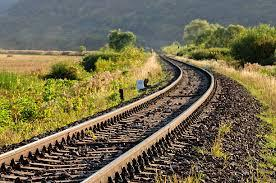track: (0, 55, 217, 183)
